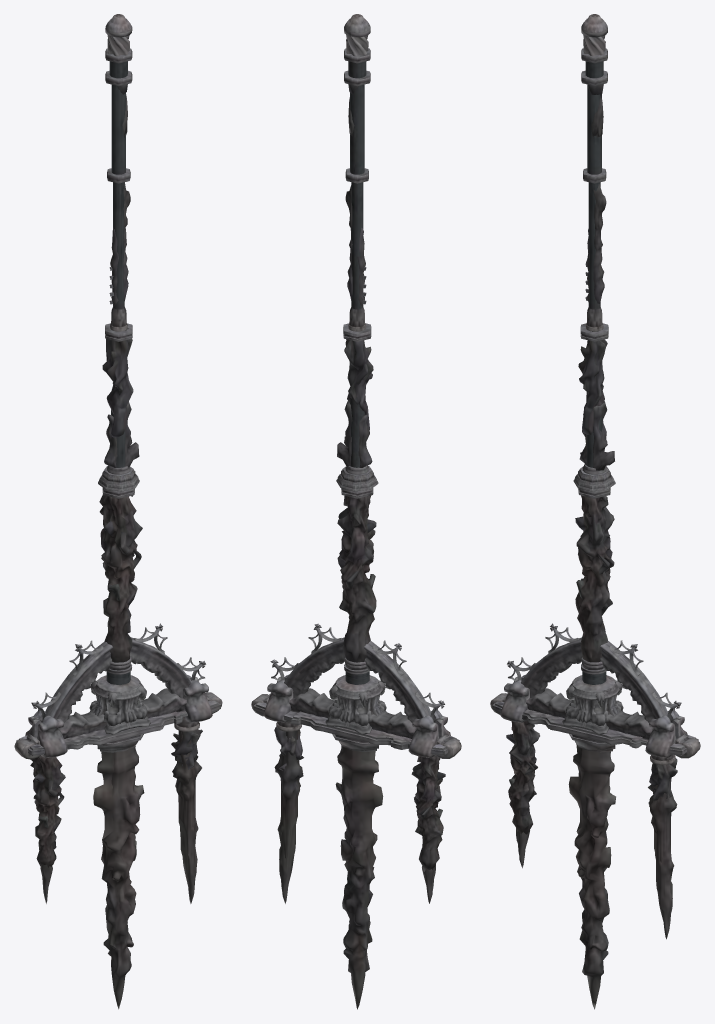
Rendered from weapon-wp_a_0918.glb.
3 renders of one model, left to right at view 1: azimuth 30°, elevation 25°; view 2: azimuth 150°, elevation 25°; view 3: azimuth 330°, elevation 25°, orthographic.
Parts seen in each view (by area): view 1: wp_a_0918_mesh; view 2: wp_a_0918_mesh; view 3: wp_a_0918_mesh.
Boxes of the visible parts, bbox=[...] form: wp_a_0918_mesh: bbox=[14, 14, 222, 1009]; wp_a_0918_mesh: bbox=[251, 14, 461, 1009]; wp_a_0918_mesh: bbox=[490, 14, 700, 1009].
Size of the model in its own units: 0.6366 by 3.01 by 0.1503.
Materials: 2 (2 with a texture image).
